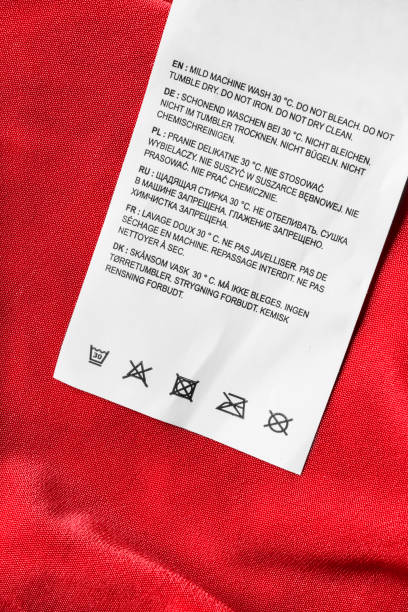ER_no_bleach: (121, 354, 156, 389)
ER_no_dry_clean: (262, 404, 297, 440)
ER_no_iron: (212, 388, 251, 422)
ER_no_tumble_dry: (168, 370, 203, 405)
ER_wash_30_mild: (83, 342, 113, 370)
